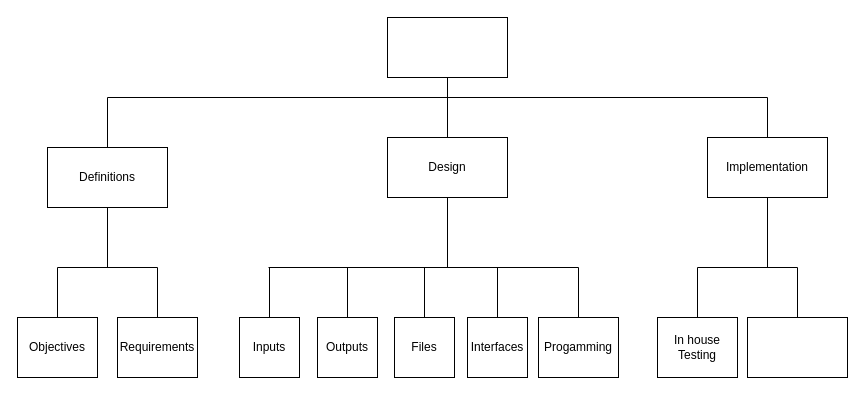
Some shapes in this 865 by 395 pixel diagram are drawn without their labels. Here are the shapes that lost their labels. From the top down, the centre of each, then its label:
(x=447, y=47): Reuter Systems Project
(x=797, y=347): Customer Testing & Review
